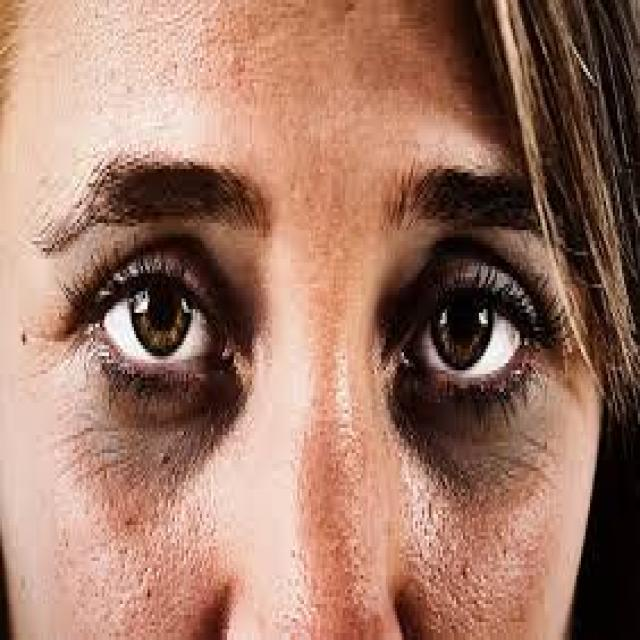high: (52, 390, 216, 476), (412, 380, 557, 470)
